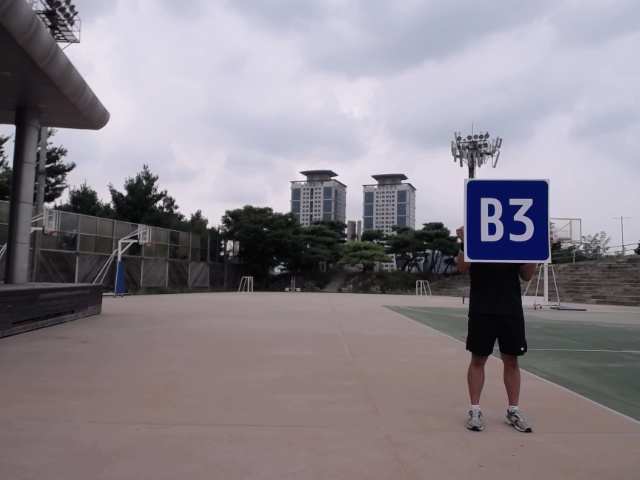delivery_b3: (463, 178, 554, 265)
